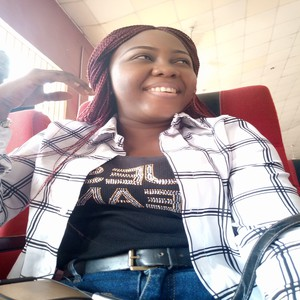Fulokoja_female_student: (51, 26, 235, 300)
